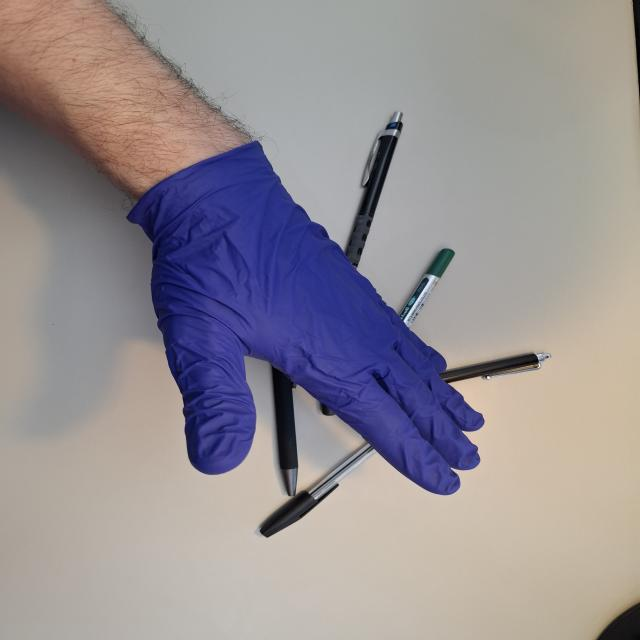glove_on: (120, 138, 488, 497)
